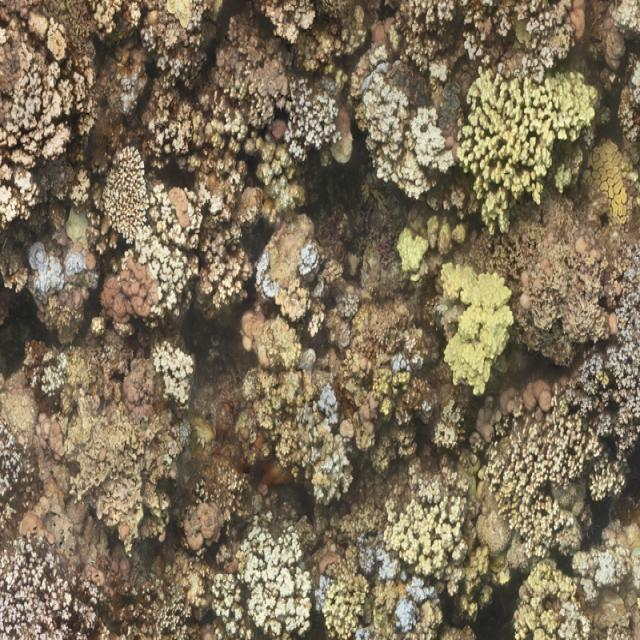Bleached Coral: (23, 236, 99, 298), (397, 571, 439, 631), (594, 547, 636, 600)
